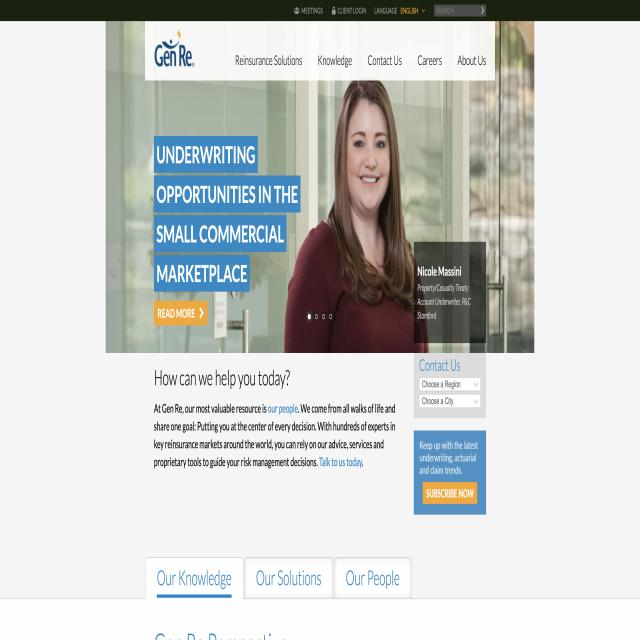Logo: (151, 23, 203, 79)
Navigation: (227, 42, 496, 76)
